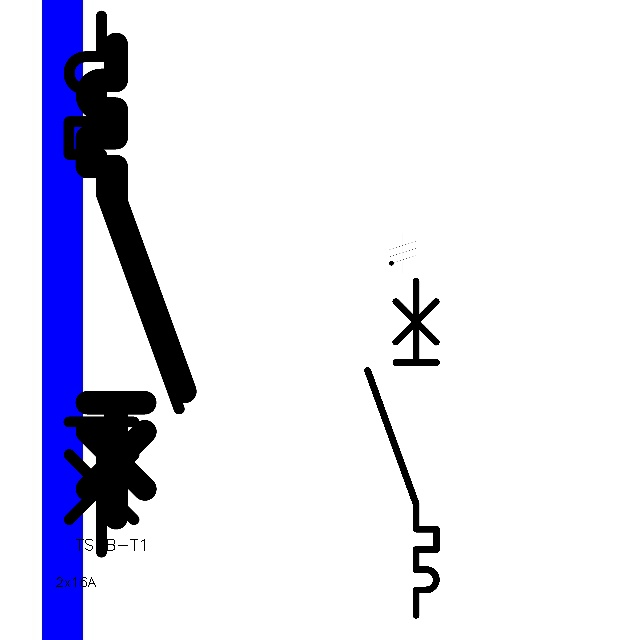interruptor_termomagnetico: (55, 2, 193, 566), (75, 32, 197, 530), (359, 272, 445, 623)
